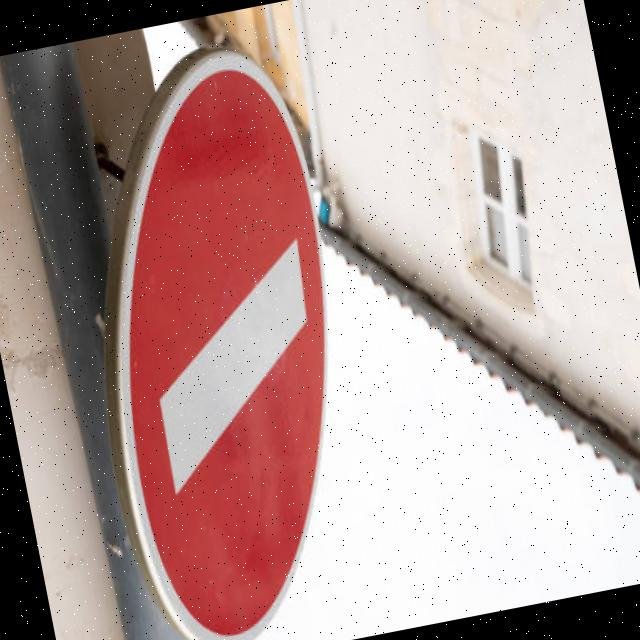do_not_enter: (16, 9, 421, 640)
